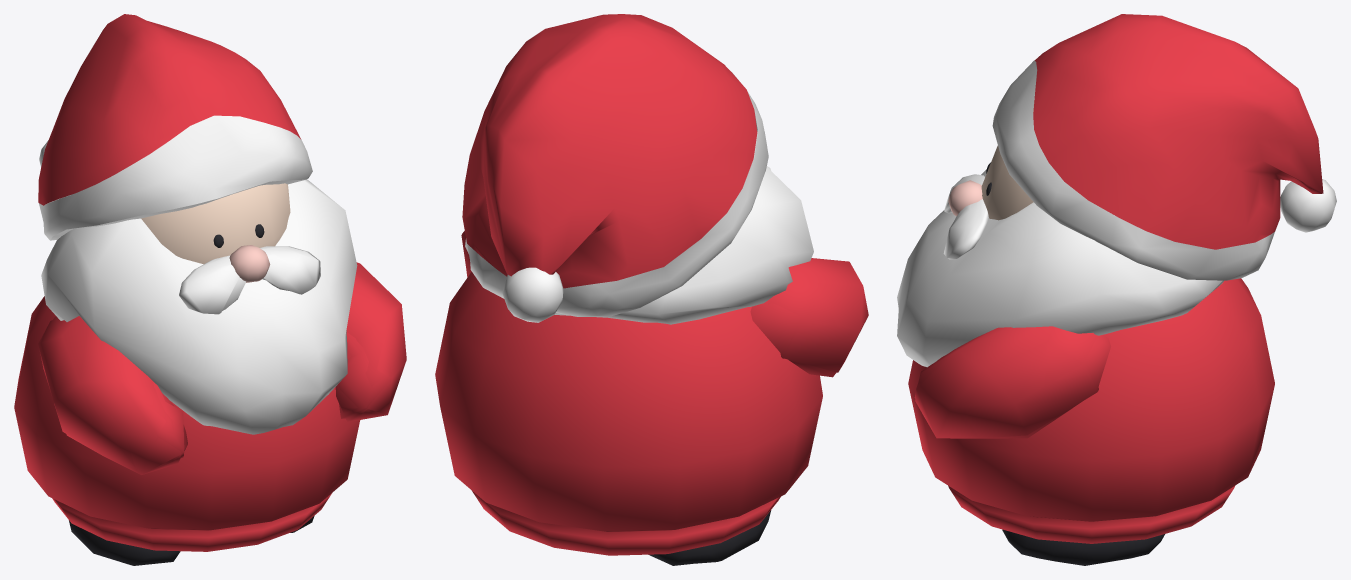
The model's file is classic.glb.
The picture shows the model from 3 angles, left to right: view 1: azimuth 30°, elevation 25°; view 2: azimuth 150°, elevation 25°; view 3: azimuth 270°, elevation 25°; orthographic projection. The views are drawn at different scales.
Parts seen in each view (by area): view 1: classic_red, classic_white, classic_skin, classic_black, classic_nose; view 2: classic_red, classic_white, classic_black; view 3: classic_red, classic_white, classic_black, classic_skin, classic_nose.
Part boxes in pixels (bbox=[...]): classic_red: bbox=[14, 14, 406, 551]; classic_white: bbox=[39, 115, 357, 434]; classic_skin: bbox=[141, 138, 290, 264]; classic_black: bbox=[69, 224, 314, 565]; classic_nose: bbox=[229, 245, 270, 282]; classic_red: bbox=[435, 14, 868, 555]; classic_white: bbox=[465, 72, 813, 324]; classic_black: bbox=[648, 510, 771, 565]; classic_red: bbox=[908, 14, 1323, 543]; classic_white: bbox=[897, 60, 1336, 367]; classic_black: bbox=[986, 162, 1164, 565]; classic_skin: bbox=[981, 101, 1098, 220]; classic_nose: bbox=[948, 180, 982, 215].
Size of the model in its own units: 2.25 by 2.98 by 2.4.
